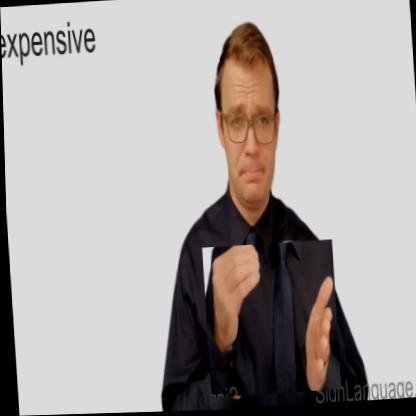Expensive: (200, 241, 339, 398)
